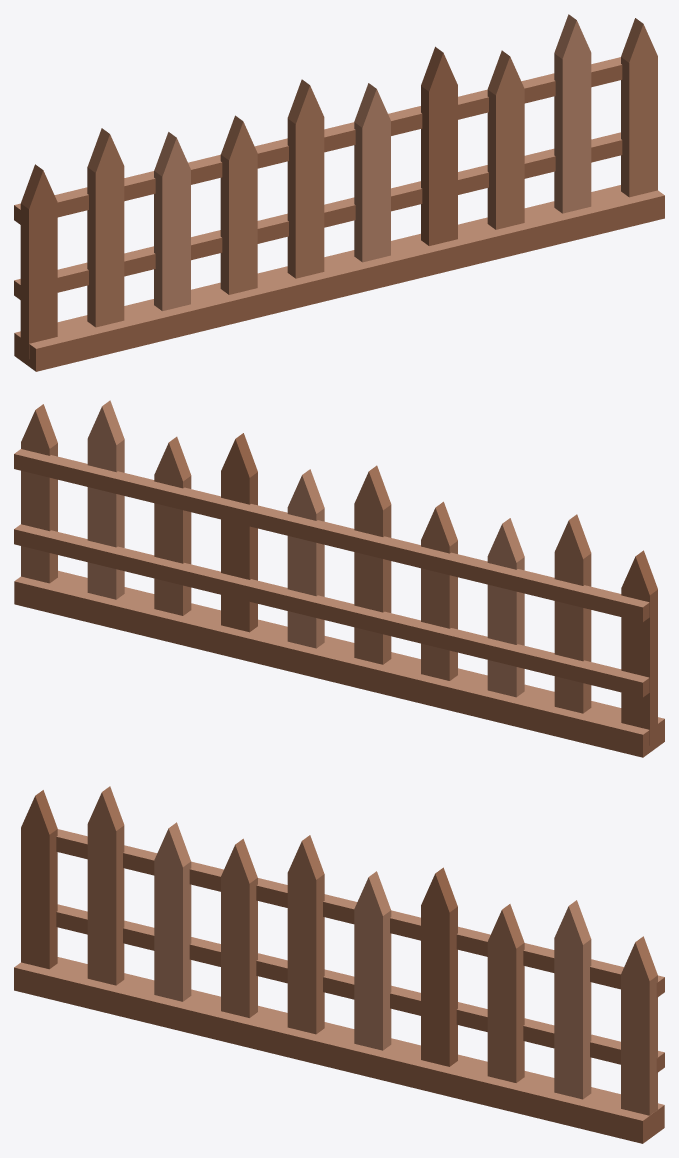
The model's file is fence.fbx.
3 renders of one model, top to bottom at view 1: azimuth 30°, elevation 25°; view 2: azimuth 150°, elevation 25°; view 3: azimuth 330°, elevation 25°, orthographic.
Parts seen in each view (by area): view 1: fence; view 2: fence; view 3: fence.
Boxes of the visible parts, x1,y1,x2,y2 form: fence: (14, 14, 664, 371); fence: (14, 400, 664, 757); fence: (14, 786, 664, 1143).
Size of the model in its own units: 420 by 136 by 25.64.
